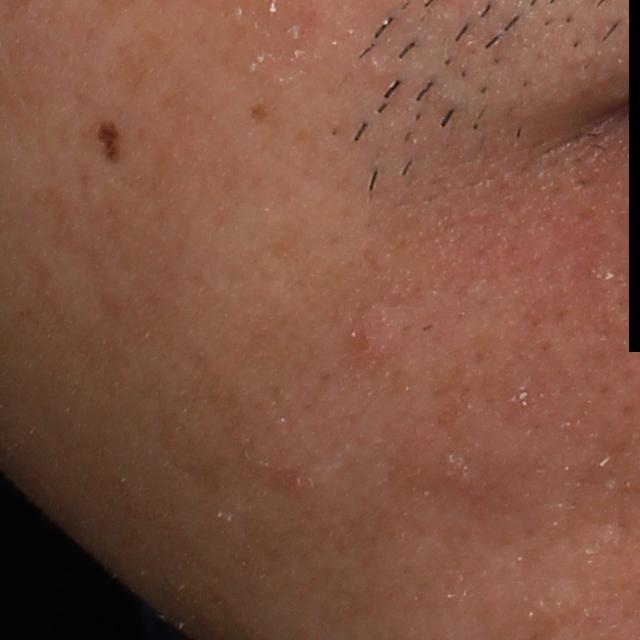nevus: (96, 119, 125, 167)
